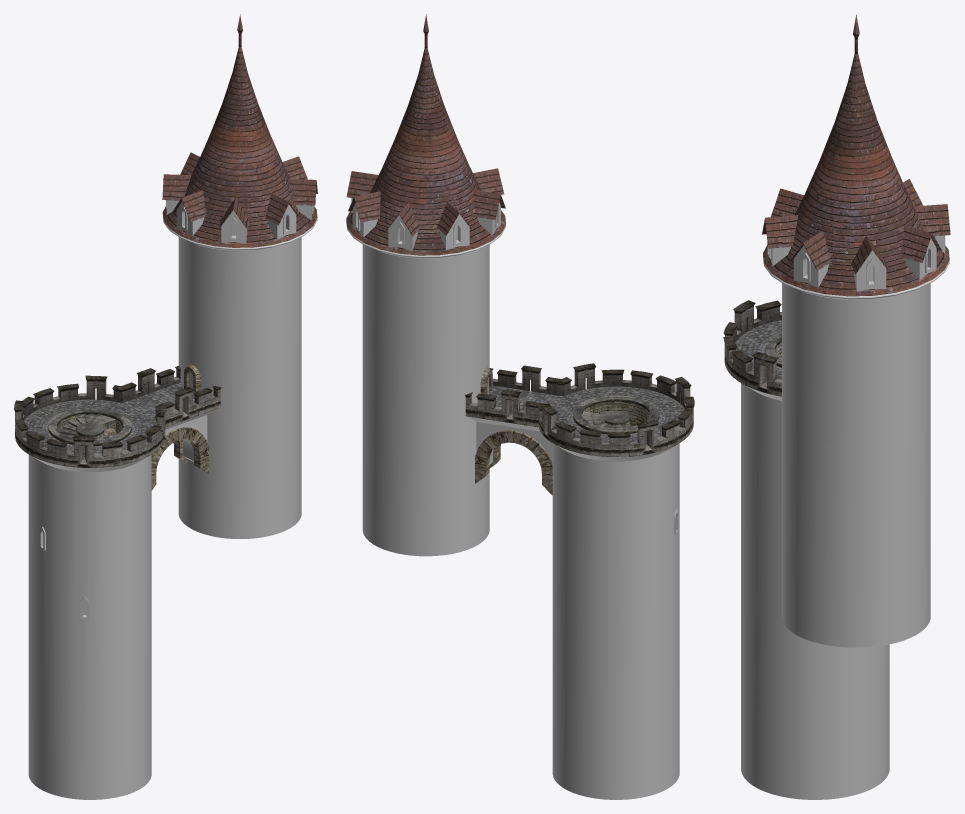
File: SM_SpireFront_01.FBX
The picture shows the model from 3 angles, left to right: view 1: azimuth 30°, elevation 25°; view 2: azimuth 150°, elevation 25°; view 3: azimuth 270°, elevation 25°; orthographic projection. The views are drawn at different scales.
Visible parts, largest first — view 1: SM_SpireFront_01; view 2: SM_SpireFront_01; view 3: SM_SpireFront_01.
Boxes of the visible parts, <box> form: SM_SpireFront_01: <box>14,14,317,799</box>; SM_SpireFront_01: <box>346,14,694,799</box>; SM_SpireFront_01: <box>723,15,950,799</box>.
Size of what is drawn, in the model's own units: 2668 by 1448 by 5993.
